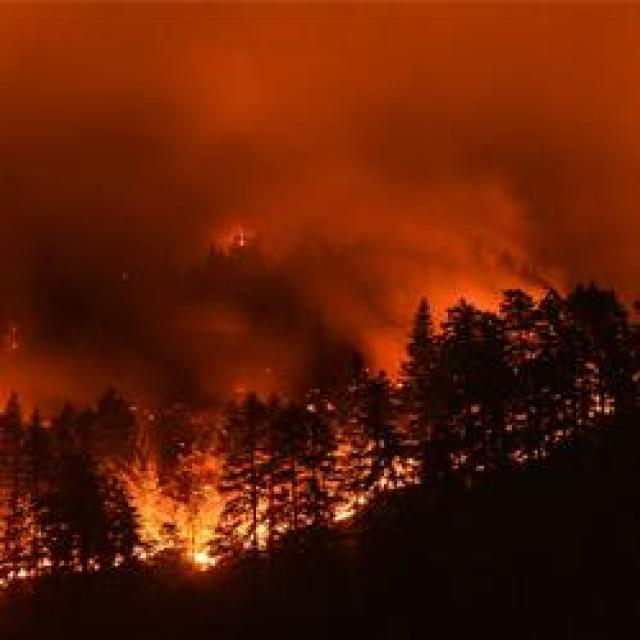Fire: (0, 461, 372, 586)
Smoke: (1, 3, 640, 407)
